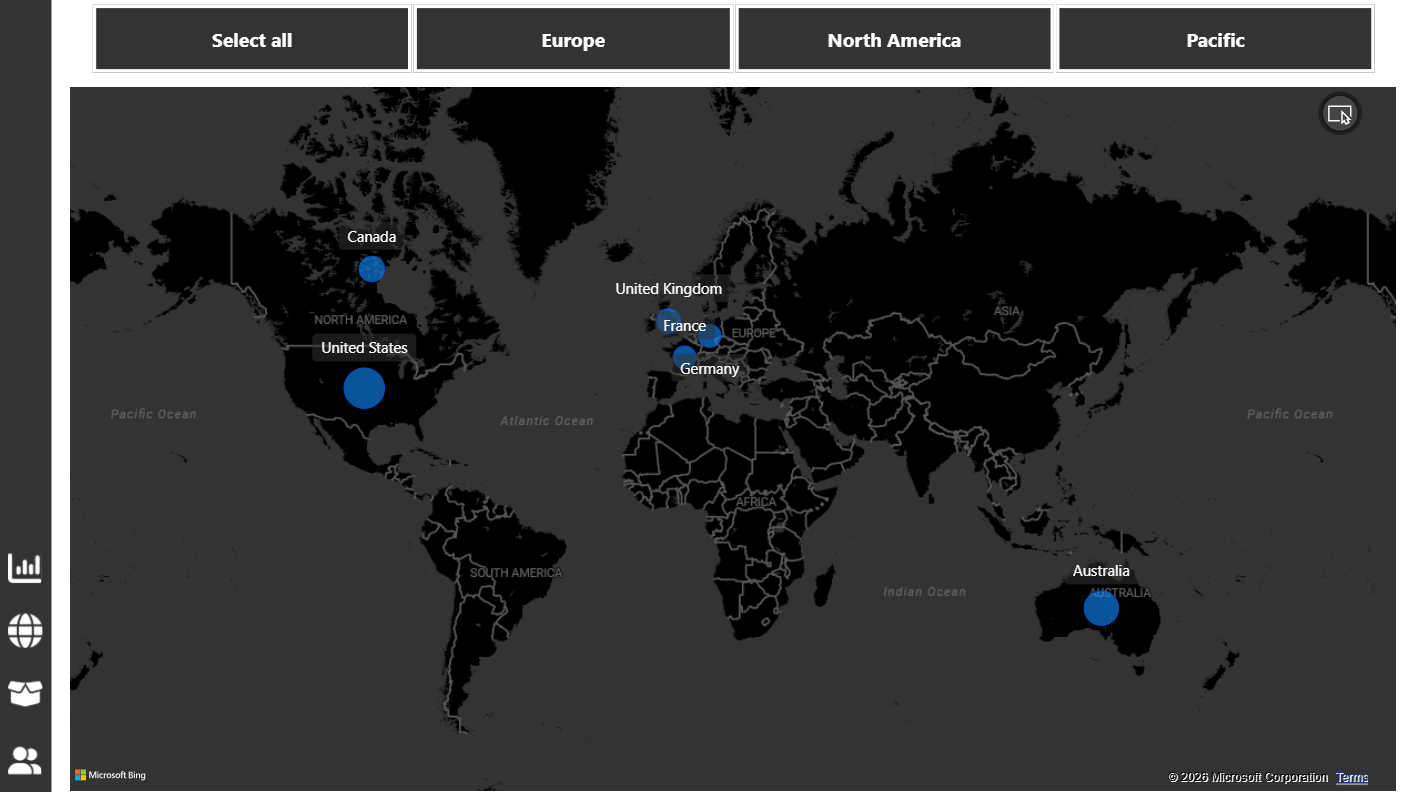

This screenshot's page, from the dashboard's own definition file:
{"tool":"powerbi","page":{"name":"Map","canvas":[1280,720],"ordinal":1},"visuals":[{"type":"shape","title":"Left Navigation","box":[0,0,48.1,719.9],"z":0},{"type":"map","fields":{"Category":["Territory Lookup.Country"],"Size":["Measure Table.Total Order"]},"box":[59.1,75.5,1205.5,644.5],"z":1000},{"type":"actionButton","box":[0,496,48.4,38.3],"z":1000,"group":"g1"},{"type":"slicer","fields":{"Values":["Territory Lookup.Continent"]},"box":[59.1,0,1205.5,75.5],"z":2000},{"type":"actionButton","box":[0,551.4,48.4,39.3],"z":2000,"group":"g1"},{"type":"group","id":"g1","title":"Navigartion Buttons","box":[0,496,48.2,211.6],"z":3000},{"type":"actionButton","box":[0,608.9,48.4,39.3],"z":3000,"group":"g1"},{"type":"actionButton","box":[0,669.3,48.2,38.8],"z":4000,"group":"g1"}]}

Visuals, with their boxes on the page's 1280x720 design canvas (x1, y1, x2, y2). These are canvas units, not pixel positions in the 1402x792 screenshot, which may show the page scaled, cropped or inside an application window:
"Left Navigation" shape: x1=0, y1=0, x2=48, y2=720
map - Territory Lookup.Country x Measure Table.Total Order: x1=59, y1=76, x2=1265, y2=720
actionButton: x1=0, y1=496, x2=48, y2=534
slicer - Territory Lookup.Continent: x1=59, y1=0, x2=1265, y2=76
actionButton: x1=0, y1=551, x2=48, y2=591
"Navigartion Buttons" group: x1=0, y1=496, x2=48, y2=708
actionButton: x1=0, y1=609, x2=48, y2=648
actionButton: x1=0, y1=669, x2=48, y2=708
